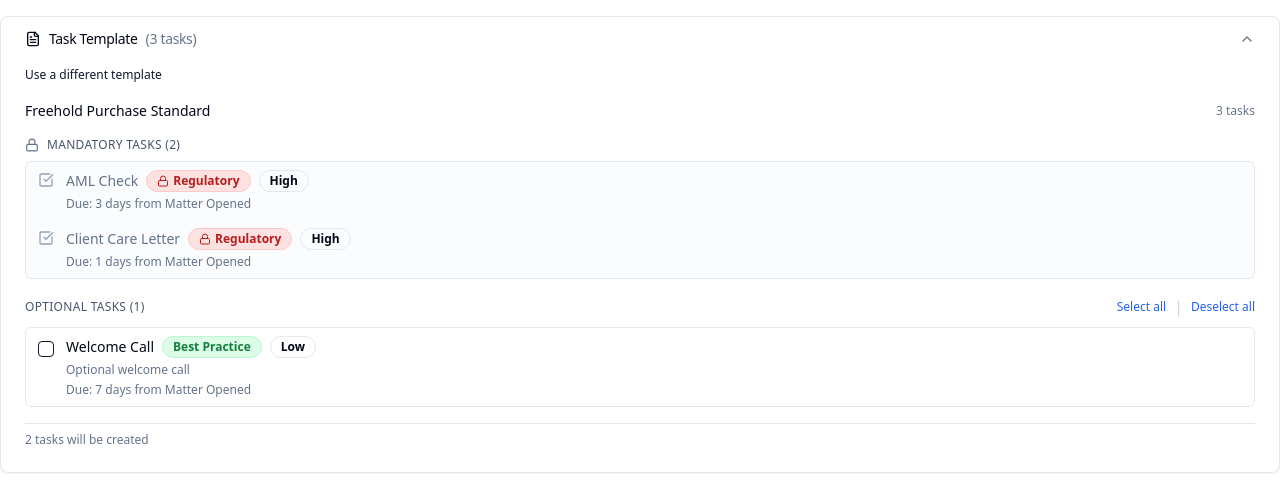
Test case: TemplateSelector › Multiple templates › shows template list when clicking 'Use a different template'
Click the button "Use a different template".
click(93, 75)  # box [25,67,162,83]
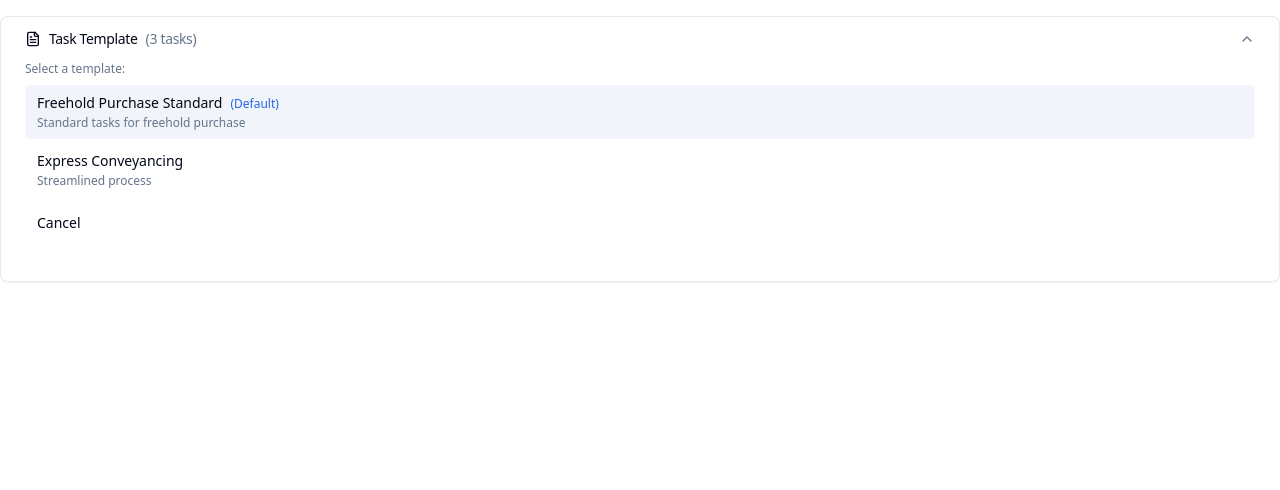
Now the text "Select a template:" is shown, box [25,60,125,77]
Now the text "Express Conveyancing" is shown, box [37,151,183,170]
Now the text "(Default)" is shown, box [230,95,279,112]
